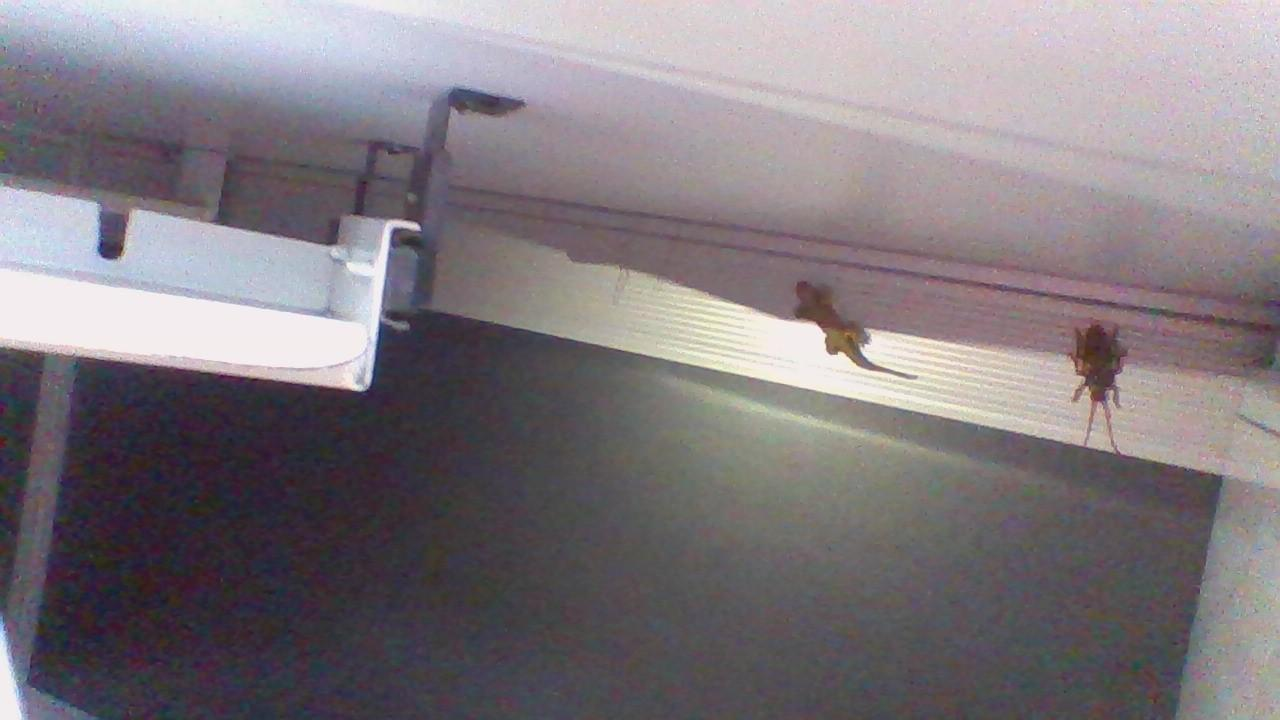cockroach: (1053, 313, 1150, 454)
lizard: (777, 267, 918, 381)
